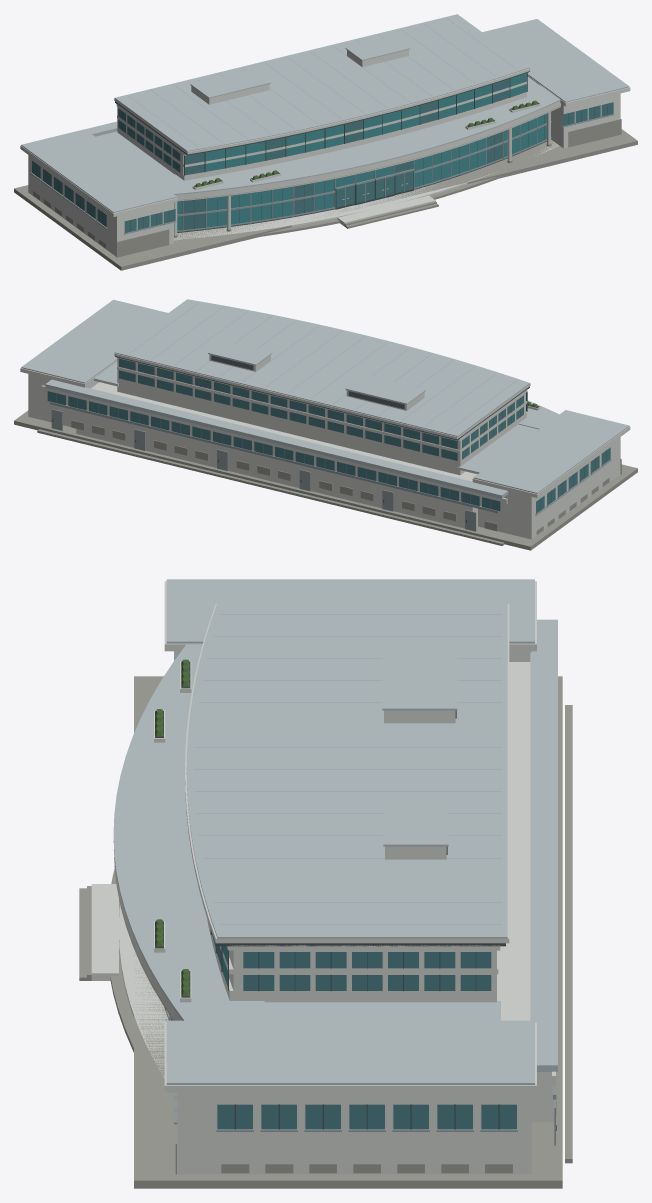
The model's file is sg-checkpoint-building.glb.
The picture shows the model from 3 angles, top to bottom: view 1: azimuth 30°, elevation 25°; view 2: azimuth 150°, elevation 25°; view 3: azimuth 270°, elevation 25°; orthographic projection. The views are drawn at different scales.
Parts seen in each view (by area): view 1: main_roof, west_wing, projecting_entrance_roof, east_wing, curved_glass_facade, upper_hall_glazing, building_podium, entrance_paving, upper_hall, roof_services, curtainwall_mullions, entrance_doors; view 2: main_roof, rear_elevation, west_wing, upper_hall, east_wing, upper_hall_glazing, building_podium, roof_services, projecting_entrance_roof; view 3: main_roof, east_wing, projecting_entrance_roof, rear_elevation, building_podium, west_wing, roof_services, upper_hall, entrance_paving, upper_hall_glazing.
Boxes of the visible parts, box(x1,y1,x2,y2) form: main_roof: box(114, 14, 530, 155); west_wing: box(20, 129, 177, 257); projecting_entrance_roof: box(154, 85, 560, 201); east_wing: box(482, 19, 630, 148); curved_glass_facade: box(177, 112, 551, 232); upper_hall_glazing: box(118, 73, 527, 175); building_podium: box(14, 129, 637, 270); entrance_paving: box(174, 112, 559, 240); upper_hall: box(116, 81, 526, 180); roof_services: box(190, 36, 410, 104); curtainwall_mullions: box(177, 114, 551, 232); entrance_doors: box(335, 168, 414, 209); main_roof: box(114, 299, 530, 440); rear_elevation: box(41, 379, 508, 531); west_wing: box(457, 410, 630, 539); upper_hall: box(116, 357, 527, 475); east_wing: box(20, 299, 167, 426); upper_hall_glazing: box(119, 358, 527, 460); building_podium: box(14, 410, 637, 550); roof_services: box(208, 341, 425, 410); projecting_entrance_roof: box(518, 400, 558, 429); main_roof: box(185, 602, 509, 946); east_wing: box(164, 1001, 536, 1174); projecting_entrance_roof: box(113, 644, 264, 1020); rear_elevation: box(497, 619, 557, 1145); building_podium: box(134, 676, 572, 1188); west_wing: box(164, 579, 536, 661); roof_services: box(382, 648, 457, 859); upper_hall: box(207, 918, 500, 1002); entrance_paving: box(79, 869, 172, 1078); upper_hall_glazing: box(210, 929, 491, 991).
Bounding box in the file's own units: 60 × 10.11 × 24.8.
